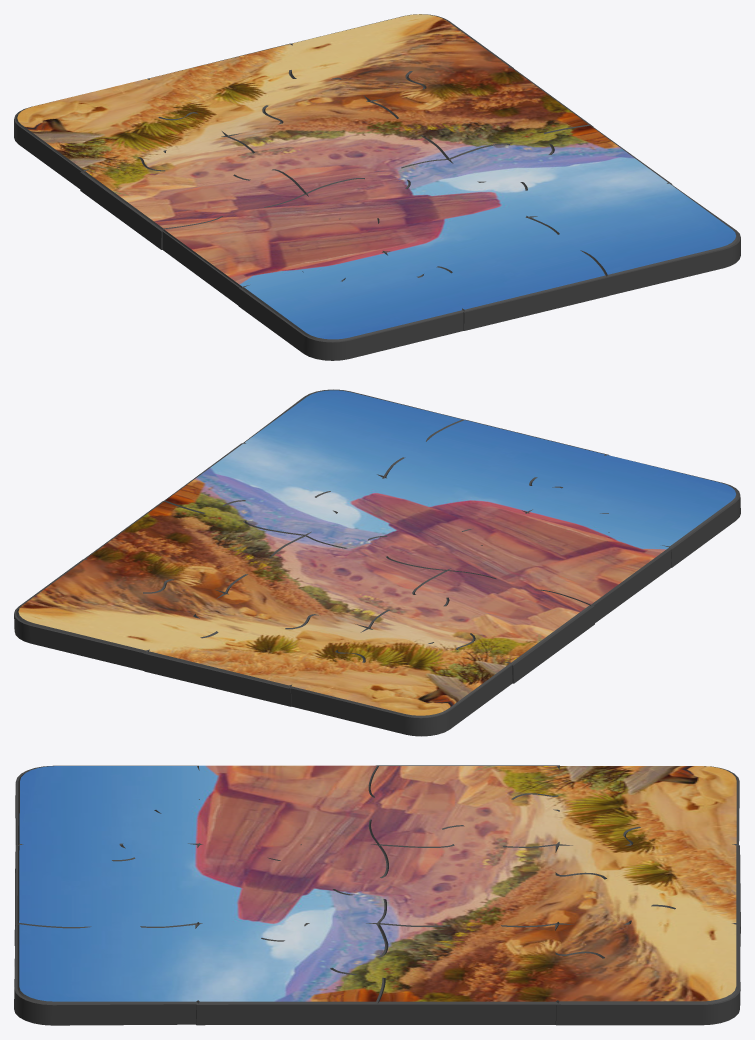
File: Jigsaw Final 4x3 Grid Double Outline.fbx
3 views of the same model, one above another, from view 1: azimuth 30°, elevation 25°; view 2: azimuth 150°, elevation 25°; view 3: azimuth 270°, elevation 25° (orthographic). The views are drawn at different scales.
Parts seen in each view (by area): view 1: Tile_03, Tile_02, Tile_01, Tile_06, Tile_08, Tile_07, Tile_09, Tile_12, Tile_10, Tile_05, Tile_11, Tile_04; view 2: Tile_12, Tile_06, Tile_10, Tile_11, Tile_08, Tile_03, Tile_02, Tile_09, Tile_07, Tile_01, Tile_04, Tile_05; view 3: Tile_07, Tile_01, Tile_10, Tile_04, Tile_08, Tile_06, Tile_02, Tile_03, Tile_11, Tile_09, Tile_12, Tile_05.
Part boxes in pixels (x1,y1,x2,y2): Tile_03: (238, 252, 463, 360); Tile_02: (385, 217, 609, 330); Tile_01: (529, 183, 740, 295); Tile_06: (162, 194, 383, 305); Tile_08: (228, 99, 447, 194); Tile_07: (371, 65, 593, 159); Tile_09: (80, 137, 305, 249); Tile_12: (14, 79, 227, 188); Tile_10: (289, 14, 513, 102); Tile_05: (306, 160, 528, 252); Tile_11: (147, 43, 368, 136); Tile_04: (449, 125, 672, 218); Tile_12: (289, 628, 513, 736); Tile_06: (448, 513, 672, 622); Tile_10: (14, 559, 224, 670); Tile_11: (143, 594, 367, 706); Tile_08: (226, 536, 447, 629); Tile_03: (528, 455, 740, 567); Tile_02: (384, 419, 608, 513); Tile_09: (369, 571, 594, 683); Tile_07: (81, 501, 304, 594); Tile_01: (240, 389, 463, 478); Tile_04: (164, 443, 383, 536); Tile_05: (304, 478, 526, 571); Tile_07: (330, 905, 606, 1024); Tile_01: (14, 907, 244, 1025); Tile_10: (551, 906, 740, 1025); Tile_04: (189, 921, 386, 1025); Tile_08: (330, 826, 606, 927); Tile_06: (152, 765, 426, 861); Tile_02: (14, 841, 245, 945); Tile_03: (15, 765, 206, 861); Tile_11: (552, 827, 740, 946); Tile_09: (369, 765, 565, 847); Tile_12: (510, 766, 739, 846); Tile_05: (190, 840, 387, 941).
Bounding box in the file's own units: 18.81 × 0.8109 × 24.1.
Materials: 2 (1 with a texture image).
